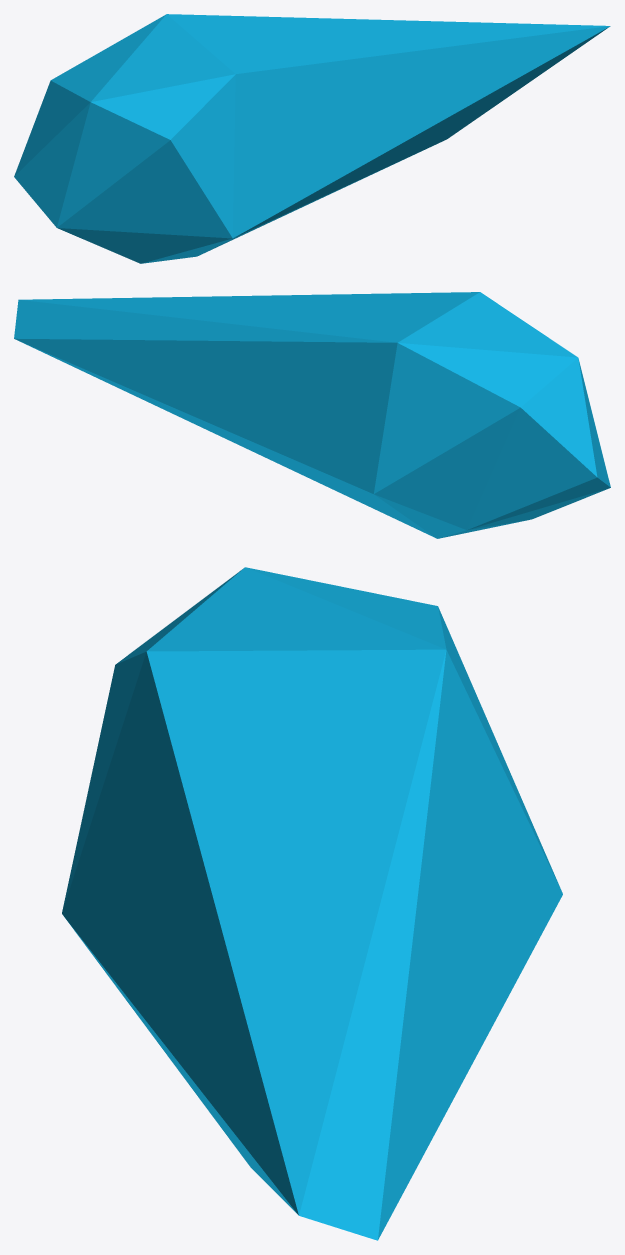
File: water.fbx
The picture shows the model from 3 angles, top to bottom: view 1: azimuth 30°, elevation 25°; view 2: azimuth 150°, elevation 25°; view 3: azimuth 270°, elevation 25°; orthographic projection. The views are drawn at different scales.
Parts seen in each view (by area): view 1: Icosphere; view 2: Icosphere; view 3: Icosphere.
Boxes of the visible parts, x1,y1,x2,y2 form: Icosphere: [14, 14, 610, 263]; Icosphere: [14, 292, 610, 538]; Icosphere: [62, 567, 562, 1240].
Size of the model in its own units: 5.38 by 1.91 by 2.01.
